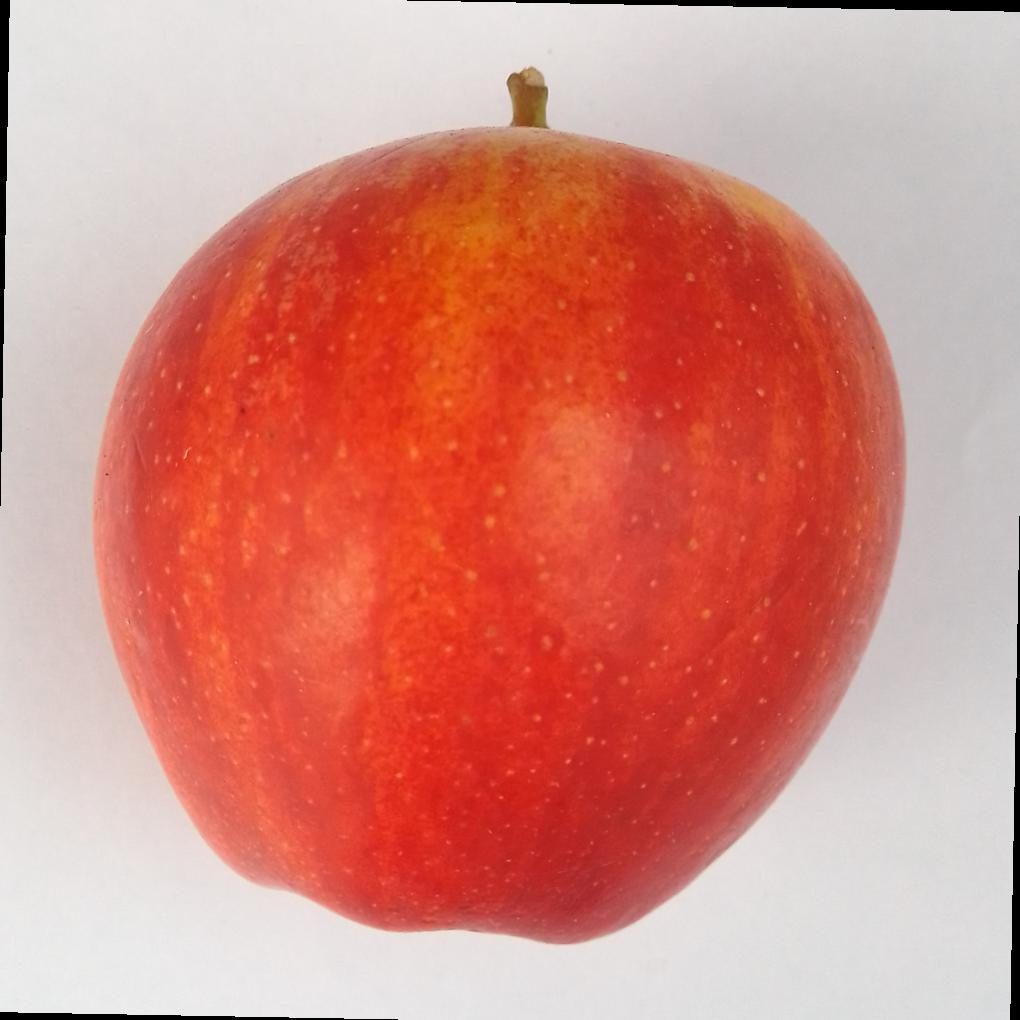FreshGuava: (89, 74, 907, 951)
